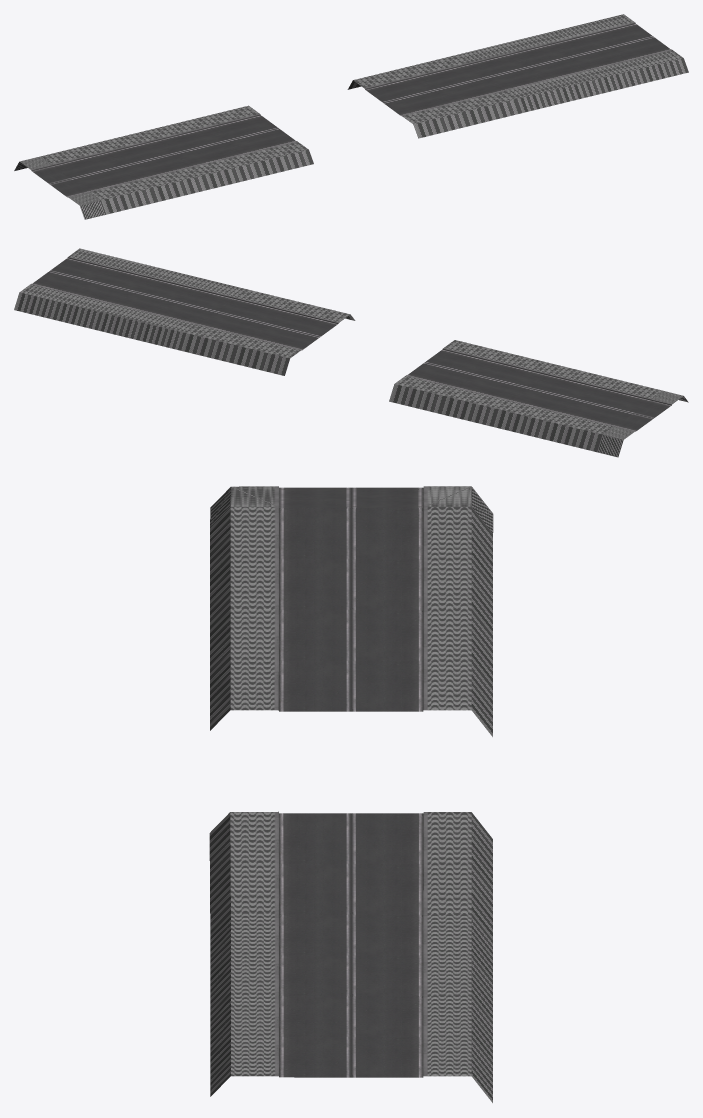
Rendered from road09_sfe.obj.
The picture shows the model from 3 angles, top to bottom: view 1: azimuth 30°, elevation 25°; view 2: azimuth 150°, elevation 25°; view 3: azimuth 270°, elevation 25°; orthographic projection. The views are drawn at different scales.
Visible parts, largest first — view 1: road09_sfe; view 2: road09_sfe; view 3: road09_sfe.
Boxes of the visible parts, left/top/right/bottom form: road09_sfe: left=14, top=14, right=688, bottom=219; road09_sfe: left=14, top=248, right=688, bottom=457; road09_sfe: left=209, top=486, right=493, bottom=1102.
Bounding box in the file's own units: 145 × 3.14 × 29.47.
2 materials, 2 textured.
